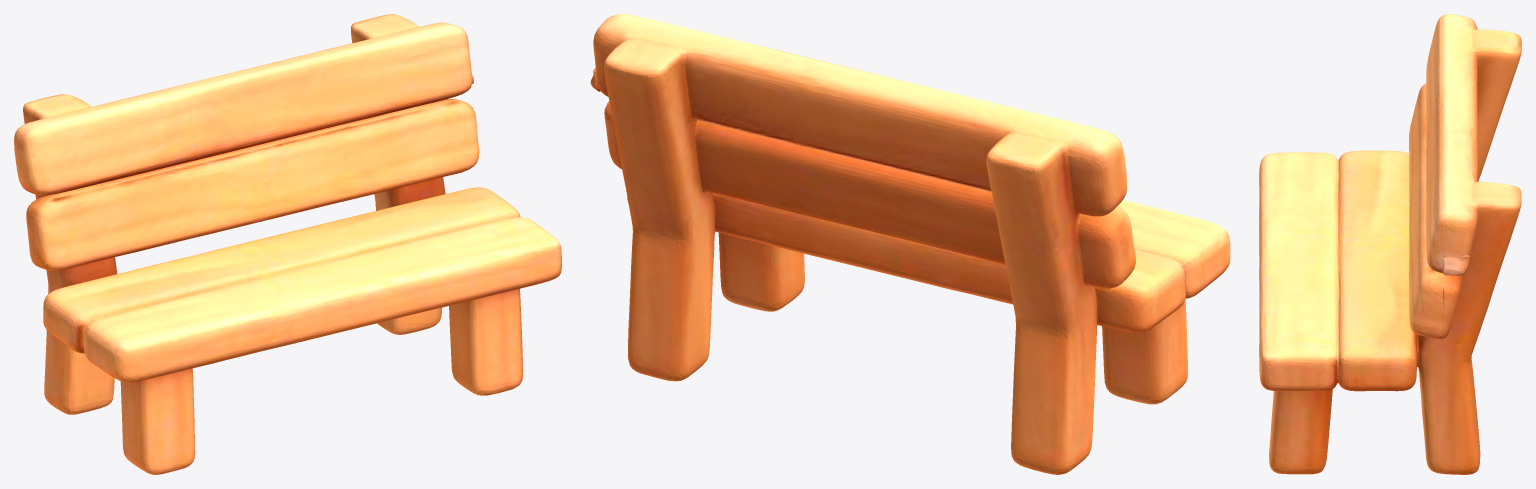
File: bench.glb
The picture shows the model from 3 angles, left to right: view 1: azimuth 30°, elevation 25°; view 2: azimuth 150°, elevation 25°; view 3: azimuth 270°, elevation 25°; orthographic projection. The views are drawn at different scales.
Visible parts, largest first — view 1: tripo_mesh_413578fd-e24b-4ddb-af94-aebac90b6e32; view 2: tripo_mesh_413578fd-e24b-4ddb-af94-aebac90b6e32; view 3: tripo_mesh_413578fd-e24b-4ddb-af94-aebac90b6e32.
Part boxes in pixels (x1,y1,x2,y2): tripo_mesh_413578fd-e24b-4ddb-af94-aebac90b6e32: [14, 14, 561, 474]; tripo_mesh_413578fd-e24b-4ddb-af94-aebac90b6e32: [590, 14, 1230, 474]; tripo_mesh_413578fd-e24b-4ddb-af94-aebac90b6e32: [1259, 14, 1521, 474].
Size of the model in its own units: 1.61 by 1 by 0.8487.
Materials: 1 (1 with a texture image).
